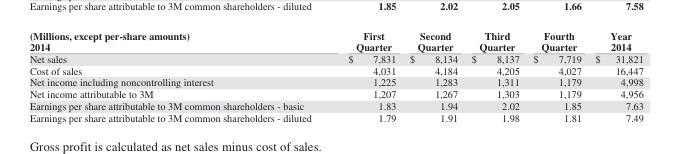table: (28, 28, 642, 122)
table column: (28, 28, 329, 122), (329, 28, 402, 122), (463, 28, 525, 122), (525, 28, 587, 122), (402, 28, 463, 122), (587, 28, 642, 122)
table column header: (28, 28, 642, 52)
table row: (28, 28, 642, 52), (28, 52, 642, 64), (28, 64, 642, 76), (28, 87, 642, 99), (28, 99, 642, 111), (28, 76, 642, 87), (28, 111, 642, 122)
